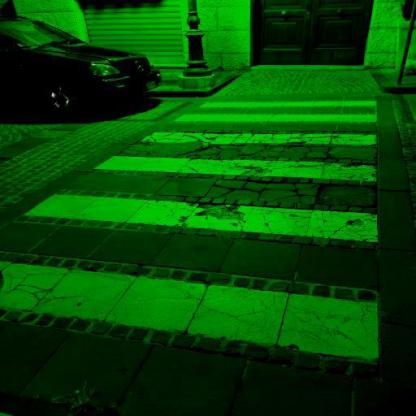crosswalk: (7, 152, 399, 244), (168, 97, 386, 126)
